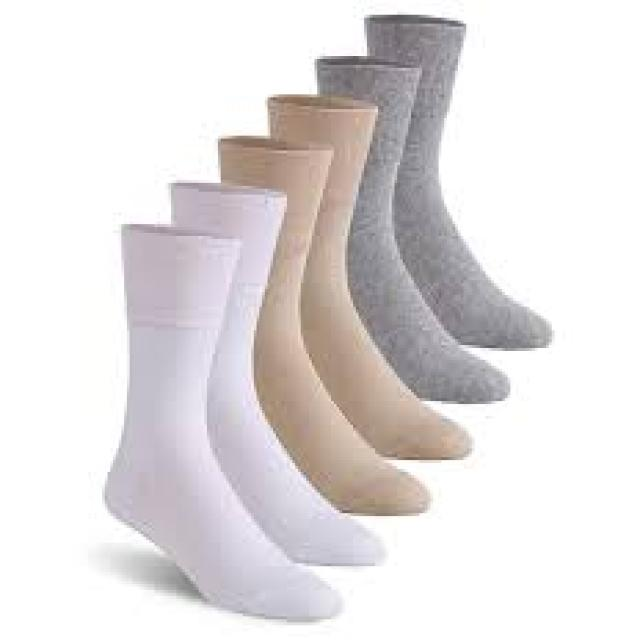sock: (102, 222, 342, 620)
